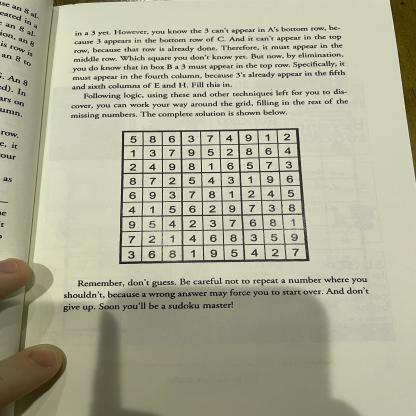sudoku: (114, 125, 313, 267)
